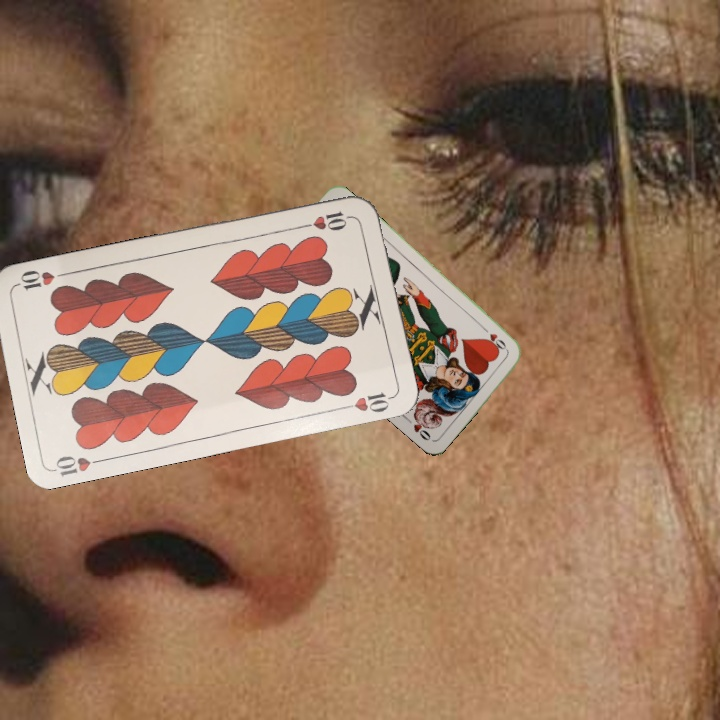H10: (51, 451, 110, 478), (297, 207, 356, 233)
HO: (477, 321, 510, 353)
